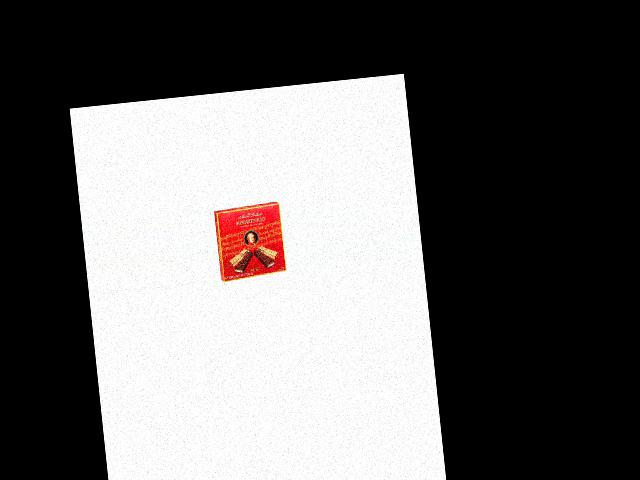chocolate: (213, 202, 288, 284)
